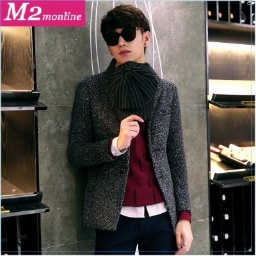face: (102, 6, 151, 64)
